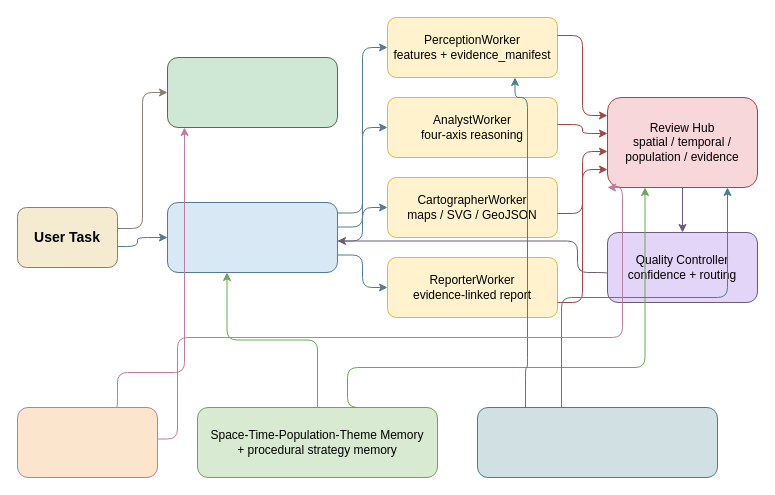
This 775x495 diagram has some shape labels left out. The box of each missing label's shape, as (x1, y1, x2, y2) in pixels:
Execution Orchestrator ManagerAgent: (166, 202, 338, 272)
Governance + Typed Evidence tool access / data schema / provenance: (476, 406, 718, 478)
Human Checkpoints guided / supervisory / autonomous: (16, 406, 158, 478)
Planning Layer PlannerAgent: (166, 56, 338, 128)
